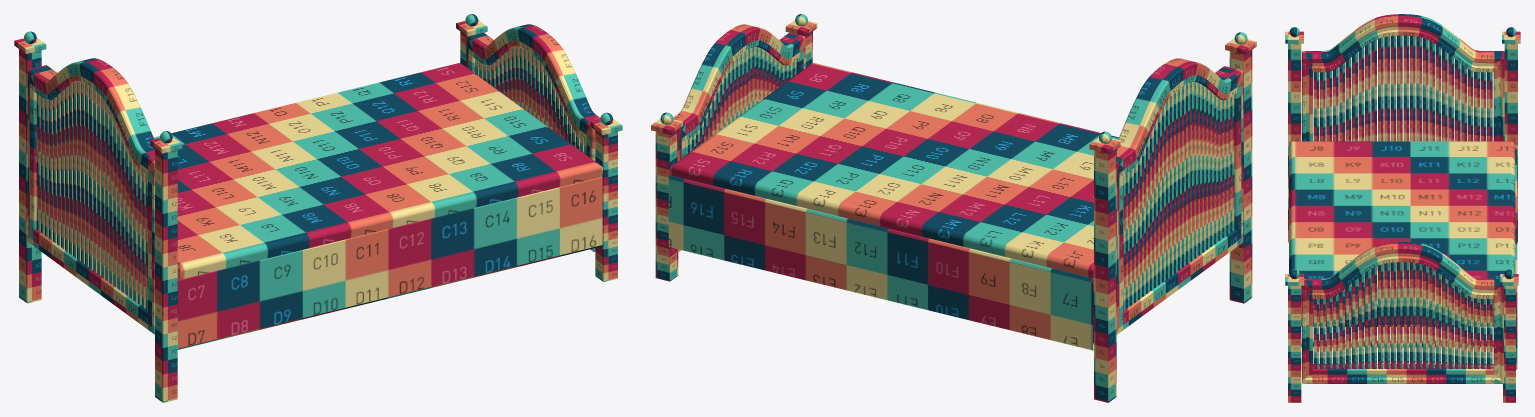
The model's file is bed.fbx.
The picture shows the model from 3 angles, left to right: view 1: azimuth 30°, elevation 25°; view 2: azimuth 150°, elevation 25°; view 3: azimuth 270°, elevation 25°; orthographic projection. The views are drawn at different scales.
Parts seen in each view (by area): view 1: bed2; view 2: bed2; view 3: bed2.
Boxes of the visible parts, x1,y1,x2,y2 form: bed2: [14, 14, 622, 402]; bed2: [651, 14, 1256, 402]; bed2: [1285, 14, 1520, 402].
Size of the model in its own units: 227 by 132 by 126.
